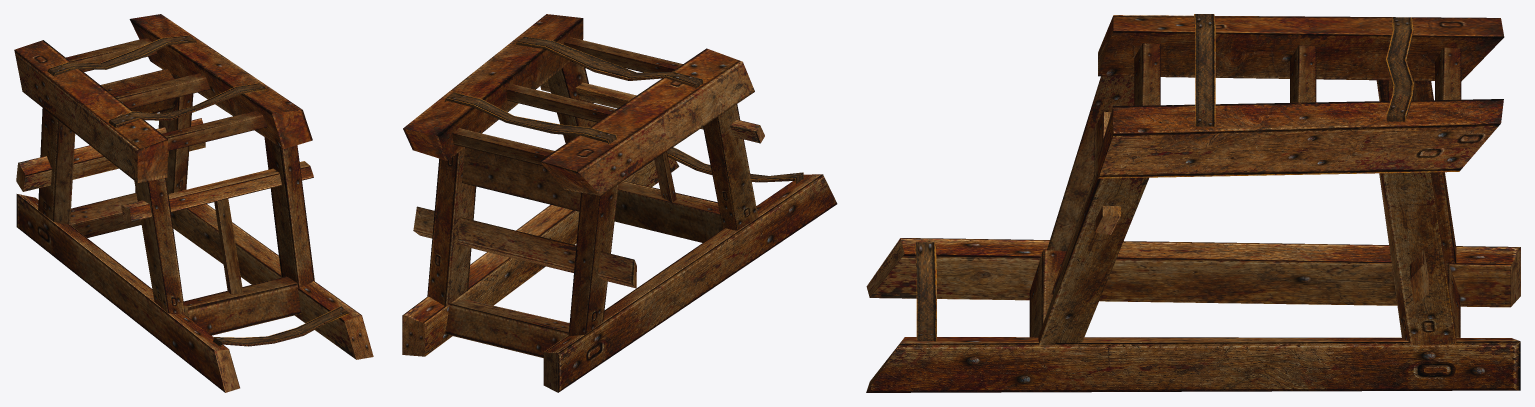
File: mm9_deco_flayingbench.glb
3 views of the same model, side by side, from view 1: azimuth 30°, elevation 25°; view 2: azimuth 150°, elevation 25°; view 3: azimuth 270°, elevation 25° (orthographic). The views are drawn at different scales.
Parts seen in each view (by area): view 1: Flayingbench; view 2: Flayingbench; view 3: Flayingbench.
Boxes of the visible parts, bbox=[...] form: Flayingbench: bbox=[14, 14, 373, 392]; Flayingbench: bbox=[402, 14, 837, 392]; Flayingbench: bbox=[866, 14, 1520, 392].
Bounding box in the file's own units: 1.46 × 1.42 × 3.03.
2 materials, 2 textured.
